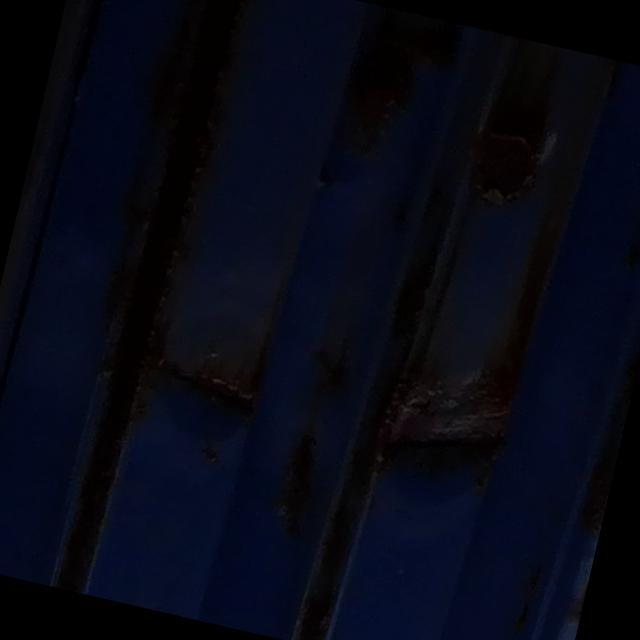rust: (114, 238, 640, 531)
